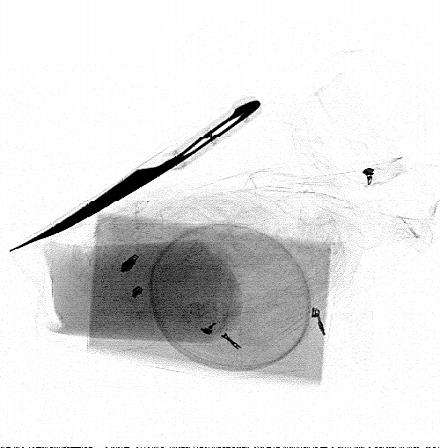Knife: (8, 99, 262, 253)
